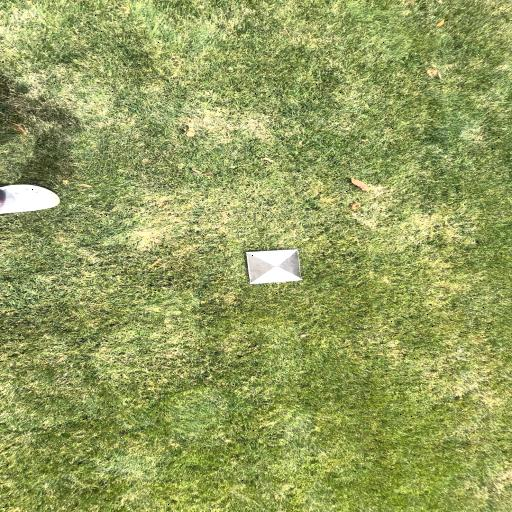target: (246, 250, 303, 284)
